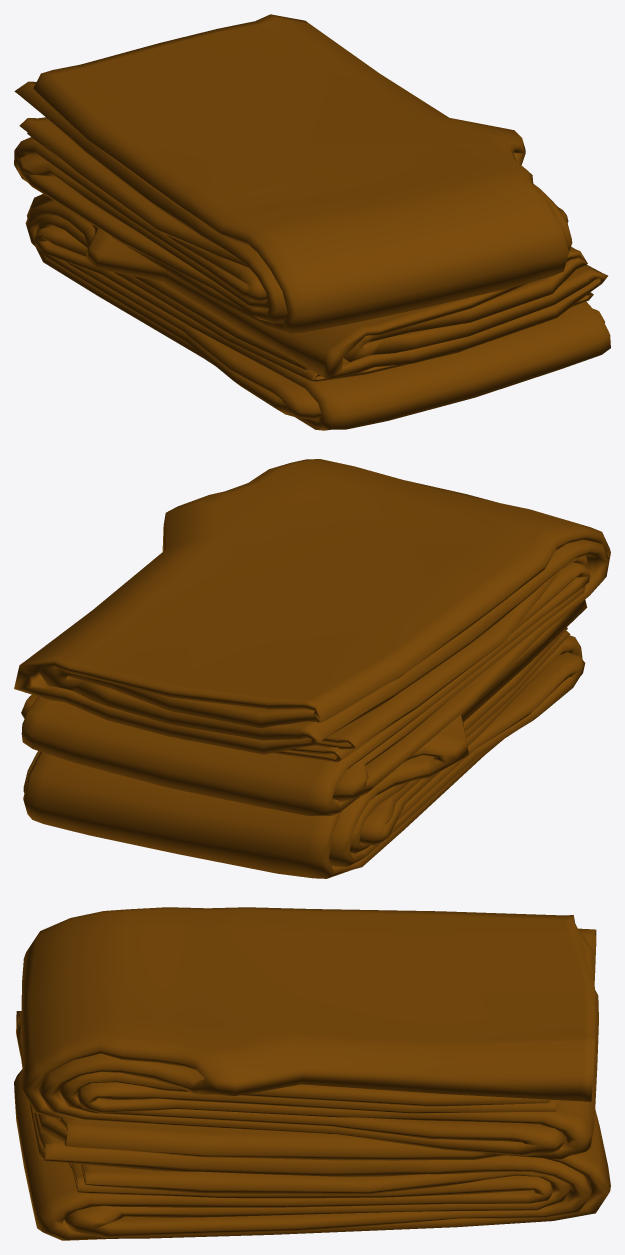
Rendered from Folded_Pant01.fbx.
3 views of the same model, one above another, from view 1: azimuth 30°, elevation 25°; view 2: azimuth 150°, elevation 25°; view 3: azimuth 270°, elevation 25° (orthographic). The views are drawn at different scales.
Visible parts, largest first — view 1: Folded_Pant01; view 2: Folded_Pant01; view 3: Folded_Pant01.
Boxes of the visible parts, x1=… form: Folded_Pant01: x1=14, y1=14, x2=610, y2=430; Folded_Pant01: x1=14, y1=459, x2=610, y2=878; Folded_Pant01: x1=14, y1=907, x2=610, y2=1240.
Size of the model in its own units: 25.02 by 11.51 by 34.5.
